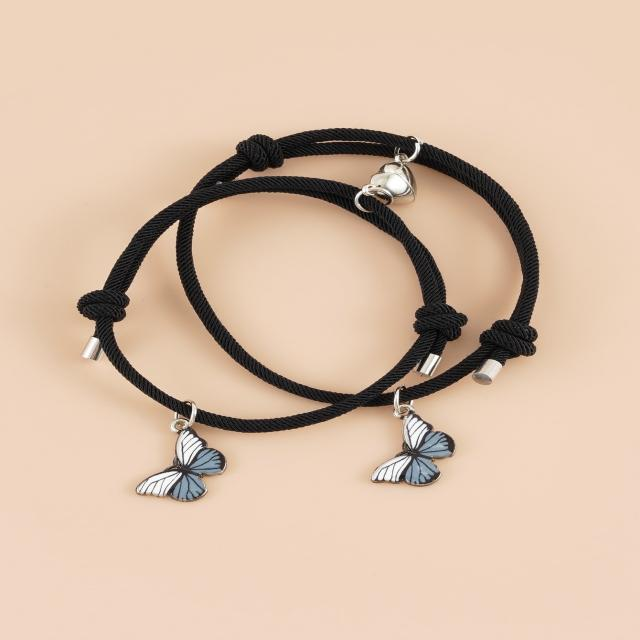bracelet: (42, 10, 629, 544)
